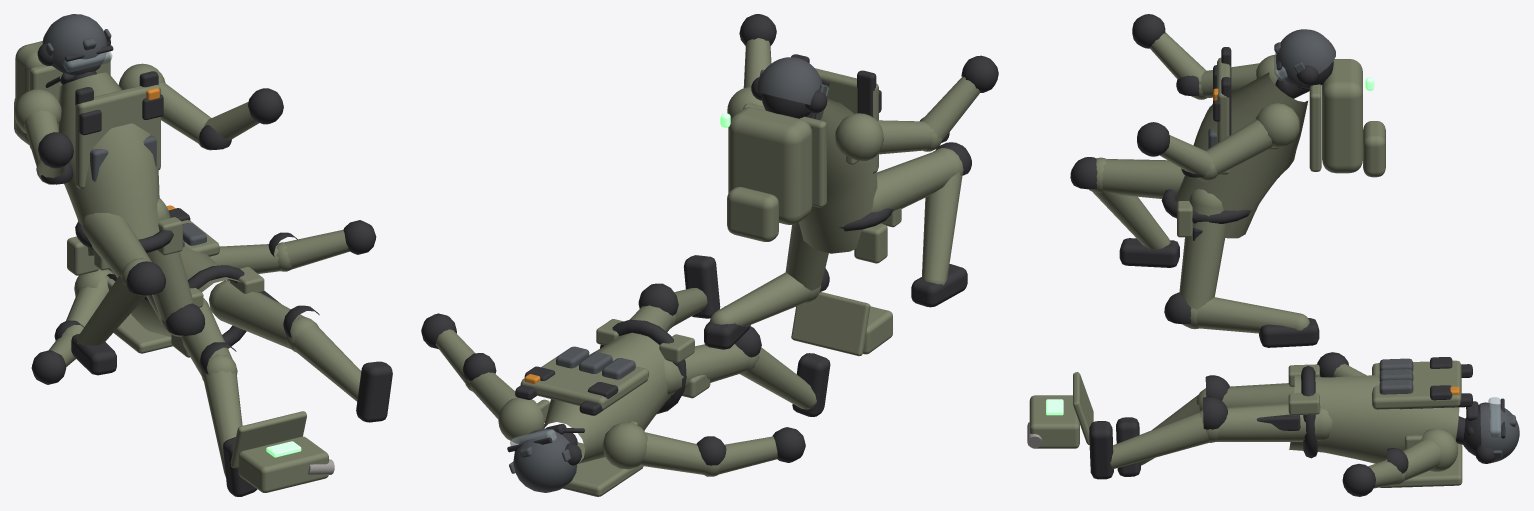
The model's file is battle-royale-town-and-airfield-operator-reviving-team-9b6308d3__28250.glb.
The picture shows the model from 3 angles, left to right: view 1: azimuth 30°, elevation 25°; view 2: azimuth 150°, elevation 25°; view 3: azimuth 270°, elevation 25°; orthographic projection. The views are drawn at different scales.
Parts seen in each view (by area): view 1: operator-reviving-teammate; view 2: operator-reviving-teammate; view 3: operator-reviving-teammate.
Boxes of the visible parts, bbox=[...] form: operator-reviving-teammate: bbox=[14, 14, 392, 496]; operator-reviving-teammate: bbox=[421, 14, 998, 496]; operator-reviving-teammate: bbox=[1027, 14, 1519, 496].
Bounding box in the file's own units: 1.96 × 1.8 × 1.97.
7 materials, 1 textured.
